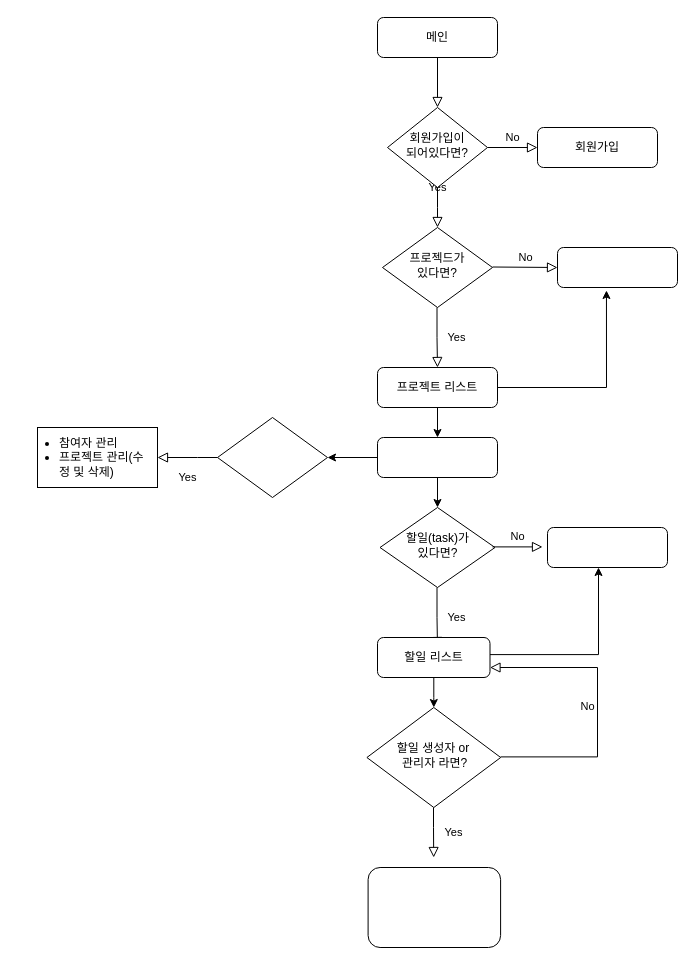
The diagram is 695 pixels wide and 965 high, and some of its shapes have lost their labels. The shapes that lost their labels are listed below. From the top down, each one's box as (x1, y1, x2, y2) in pixels, then its label:
(556, 246, 678, 288): 프로젝트 생성
(216, 416, 328, 498): 관리자 라면?
(376, 436, 498, 478): 프로젝트 선택
(546, 526, 668, 568): 할일 생성
(367, 866, 501, 948): 할일 수정 및 삭제 개인 업무 관리
